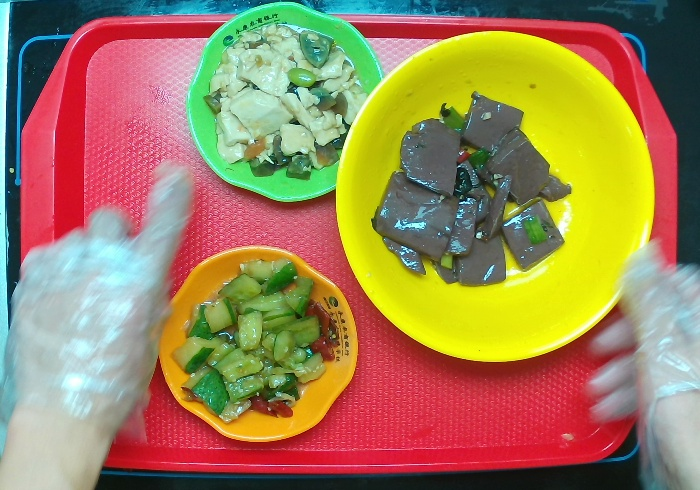YKMZ-Huang_Se_Tang_Wan: (334, 28, 676, 367)
YKMZ-Ju_Se_Ao_Bian_Wan: (153, 246, 363, 443)
YKMZ-Lv_Se_Ao_Bian_Wan: (182, 1, 391, 206)
